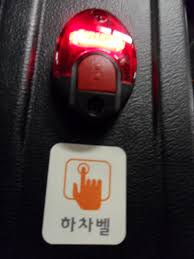bell: (51, 8, 138, 130)
